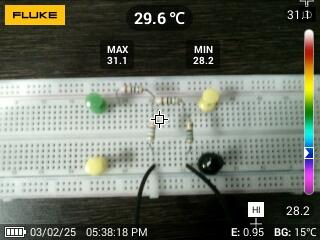resistor: (116, 83, 147, 96), (184, 117, 197, 146), (153, 95, 184, 107), (145, 117, 157, 147)
